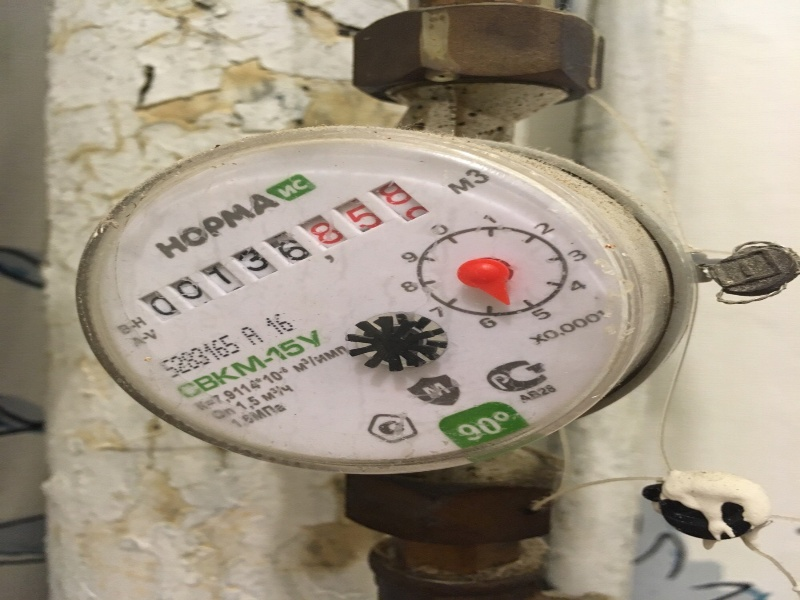meter: (117, 185, 411, 318)
